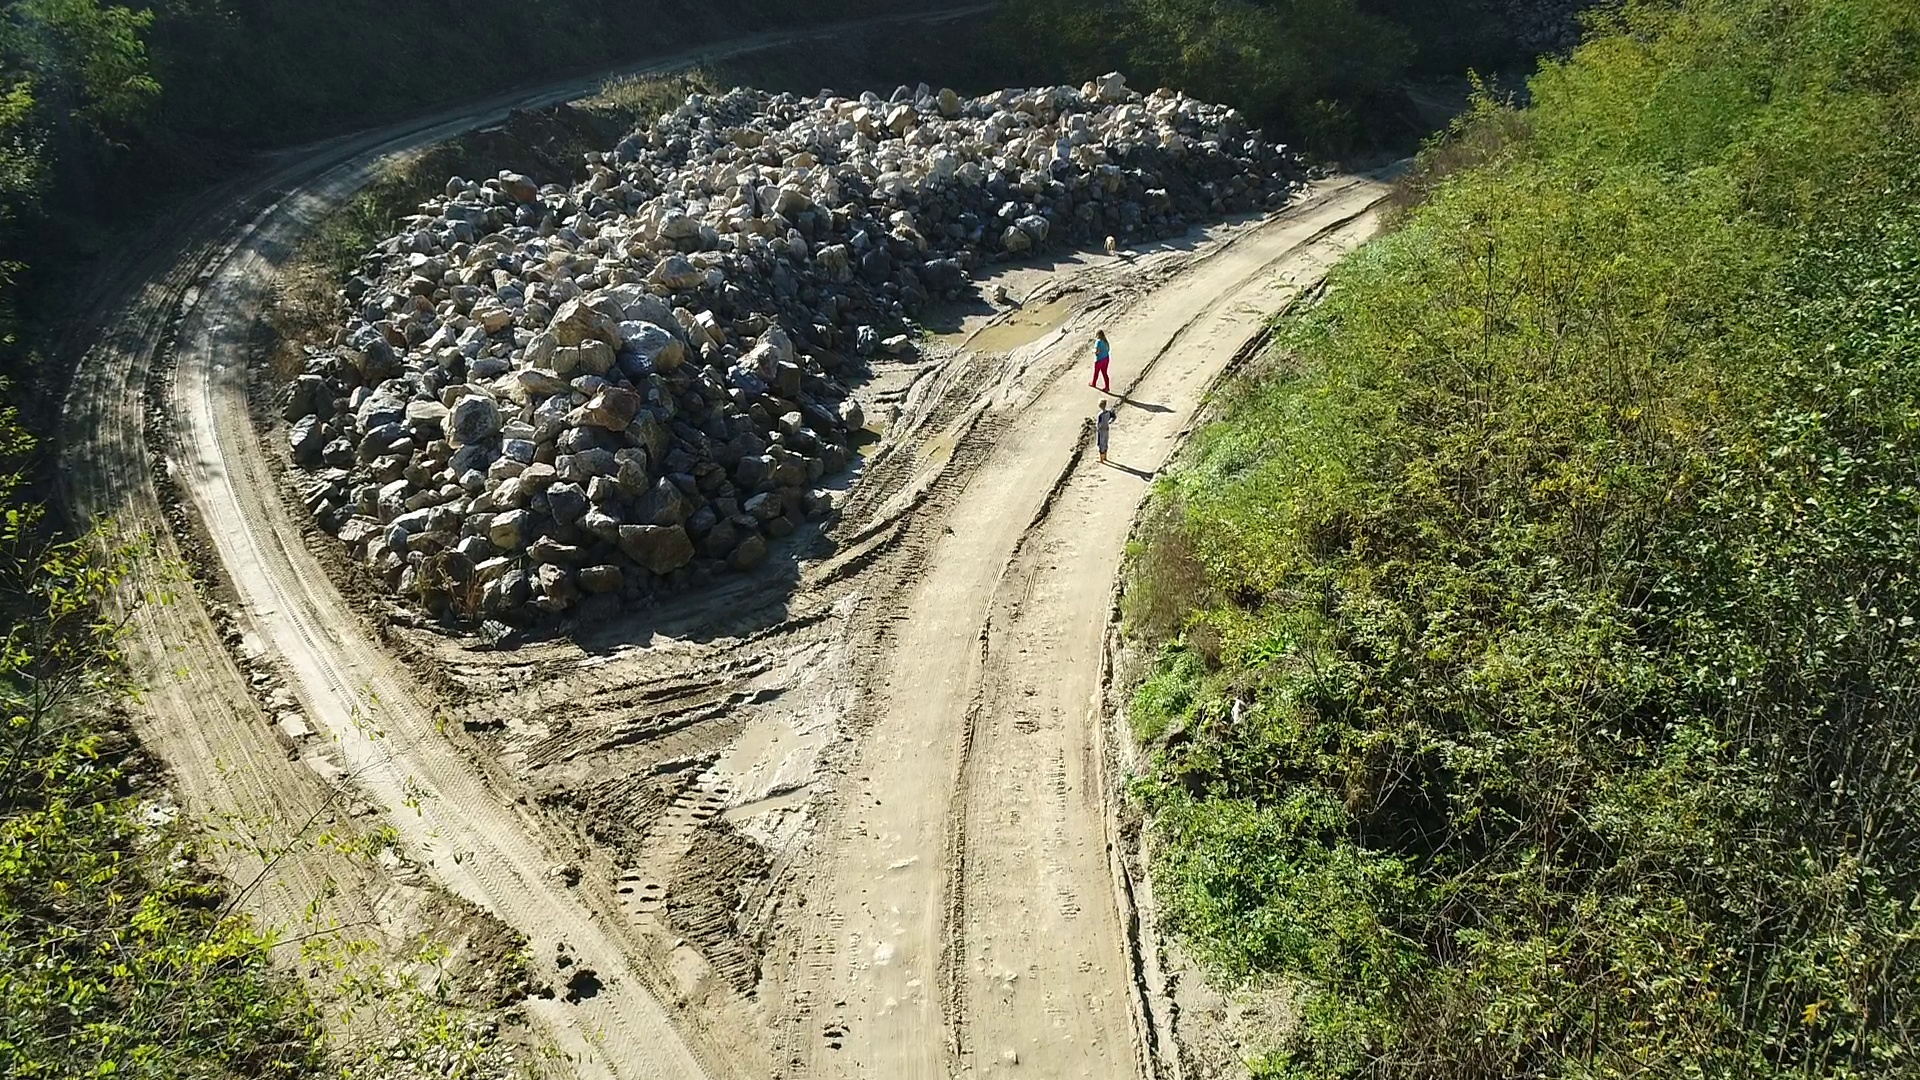person: (1095, 398, 1117, 464), (1088, 329, 1110, 392), (1048, 155, 1068, 184)
